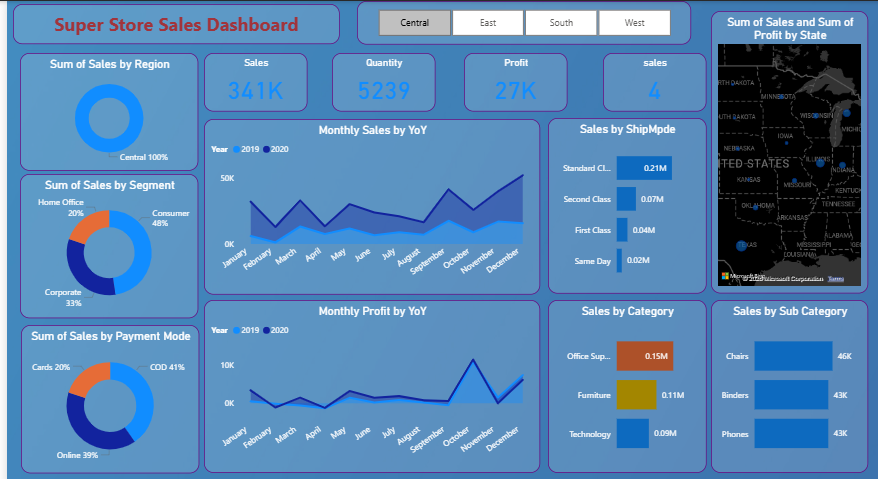

This screenshot's page, from the dashboard's own definition file:
{"tool":"powerbi","page":{"name":"Page 1","canvas":[1280,720],"ordinal":0},"visuals":[{"type":"clusteredBarChart","title":" Sales by Category","fields":{"Category":["Sheet1.Category"],"Y":["Sum(Sheet1.Sales)"]},"box":[795,440,232.5,253.8],"z":0},{"type":"clusteredBarChart","title":" Sales by Sub Category","fields":{"Category":["Sheet1.Sub-Category"],"Y":["Sum(Sheet1.Sales)"]},"box":[1033.8,440,231.2,253.8],"z":1000},{"type":"clusteredBarChart","title":" Sales by ShipMpde","fields":{"Category":["Sheet1.Ship Mode"],"Y":["Sum(Sheet1.Sales)"]},"box":[795,172.5,232.5,257.5],"z":2000},{"type":"stackedAreaChart","title":"Monthly Sales by YoY","fields":{"Y":["Sum(Sheet1.Sales)"],"Category":["Sheet1.Order Date.Variation.Date Hierarchy.Month","Sheet1.Order Date.Variation.Date Hierarchy.Day"],"Series":["Sheet1.Order Date.Variation.Date Hierarchy.Year"]},"box":[289.4,172.7,493.9,257.6],"z":3000},{"type":"stackedAreaChart","title":"Monthly Profit by YoY","fields":{"Category":["Sheet1.Order Date.Variation.Date Hierarchy.Month","Sheet1.Order Date.Variation.Date Hierarchy.Day"],"Series":["Sheet1.Order Date.Variation.Date Hierarchy.Year"],"Y":["Sum(Sheet1.Profit)"]},"box":[290,440,493.8,253.8],"z":4000},{"type":"map","fields":{"Category":["Sheet1.State"],"Size":["Sum(Sheet1.Sales)"]},"box":[1033.8,15,231.2,415],"z":5000},{"type":"donutChart","fields":{"Category":["Sheet1.Segment"],"Y":["Sum(Sheet1.Sales)"]},"box":[19.7,254.5,262.1,212.1],"z":6000},{"type":"donutChart","fields":{"Category":["Sheet1.Payment Mode"],"Y":["Sum(Sheet1.Sales)"]},"box":[20.2,475.4,262,218.4],"z":7000},{"type":"slicer","fields":{"Values":["Sheet1.Region"]},"box":[513.6,0,490.9,63.6],"z":8000},{"type":"textbox","box":[9.1,4.5,480.3,59.1],"z":9000},{"type":"card","title":"Sales","fields":{"Values":["Sum(Sheet1.Sales)"]},"box":[289.4,75.8,151.5,86.4],"z":10000},{"type":"card","title":"Quantity","fields":{"Values":["Sum(Sheet1.Quantity)"]},"box":[477.3,75.8,151.5,86.4],"z":11000},{"type":"card","title":"Profit","fields":{"Values":["Sum(Sheet1.Profit)"]},"box":[671.2,75.8,151.5,86.4],"z":12000},{"type":"card","title":"sales","fields":{"Values":["Avg(Sheet1.Avg Delivery)"]},"box":[875.8,75.8,151.5,86.4],"z":13000},{"type":"donutChart","fields":{"Category":["Sheet1.Region"],"Y":["Sum(Sheet1.Sales)"]},"box":[19.7,75.8,262.1,172.7],"z":13001}]}

Visuals, with their boxes in screenshot pixels (x1, y1, x2, y2):
" Sales by Category" clusteredBarChart: BBox(546, 296, 704, 469)
" Sales by Sub Category" clusteredBarChart: BBox(708, 296, 865, 469)
" Sales by ShipMpde" clusteredBarChart: BBox(546, 115, 704, 290)
"Monthly Sales by YoY" stackedAreaChart: BBox(203, 115, 538, 290)
"Monthly Profit by YoY" stackedAreaChart: BBox(204, 296, 539, 469)
map - Sheet1.State x Sum(Sheet1.Sales): BBox(708, 8, 865, 290)
donutChart - Sheet1.Segment x Sum(Sheet1.Sales): BBox(20, 170, 198, 314)
donutChart - Sheet1.Payment Mode x Sum(Sheet1.Sales): BBox(21, 320, 198, 469)
slicer - Sheet1.Region: BBox(355, 0, 689, 41)
textbox: BBox(13, 1, 339, 41)
"Sales" card: BBox(203, 49, 306, 108)
"Quantity" card: BBox(331, 49, 434, 108)
"Profit" card: BBox(462, 49, 565, 108)
"sales" card: BBox(601, 49, 704, 108)
donutChart - Sheet1.Region x Sum(Sheet1.Sales): BBox(20, 49, 198, 166)
